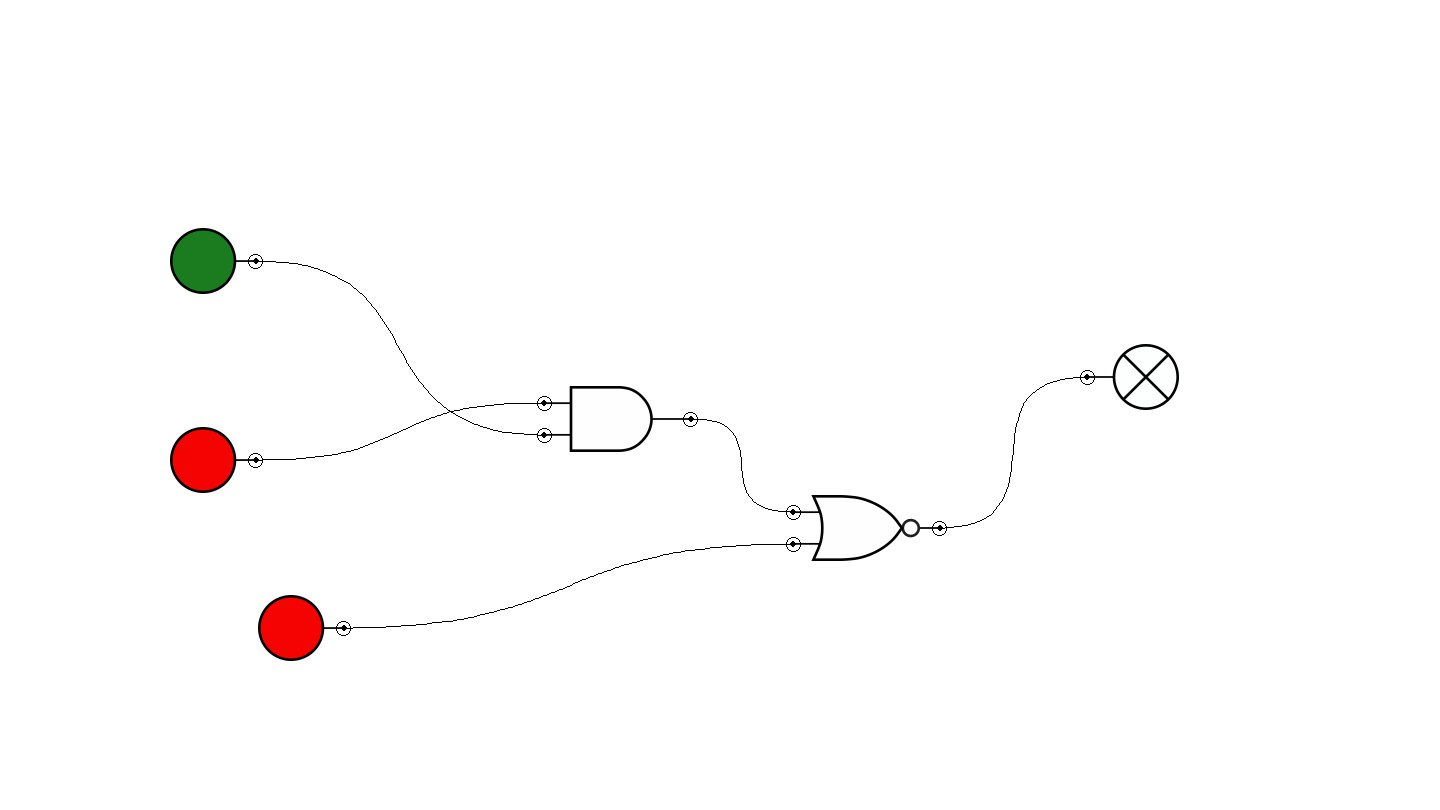and: (537, 386, 698, 452)
bulb: (1080, 344, 1179, 410)
nor: (786, 495, 947, 561)
switch_False: (170, 427, 263, 493), (258, 595, 351, 661)
switch_True: (170, 228, 263, 294)
